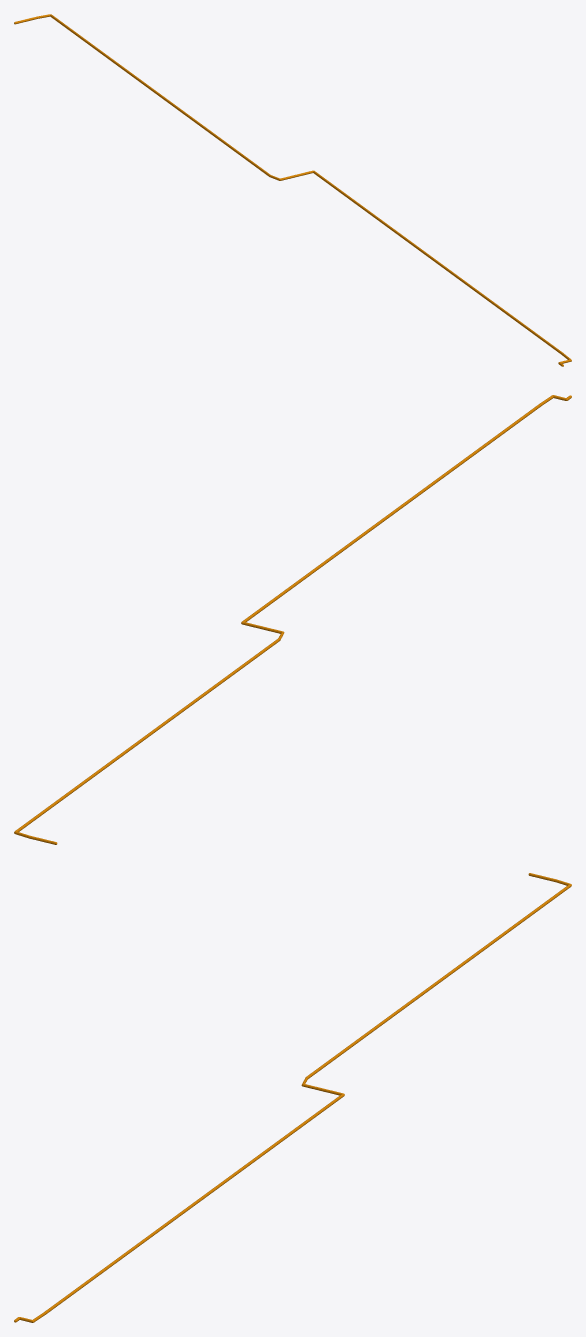
The picture shows the model from 3 angles, top to bottom: view 1: azimuth 30°, elevation 25°; view 2: azimuth 150°, elevation 25°; view 3: azimuth 330°, elevation 25°; orthographic projection. The views are drawn at different scales.
Size of the model in its own units: 660 by 20 by 7579.
